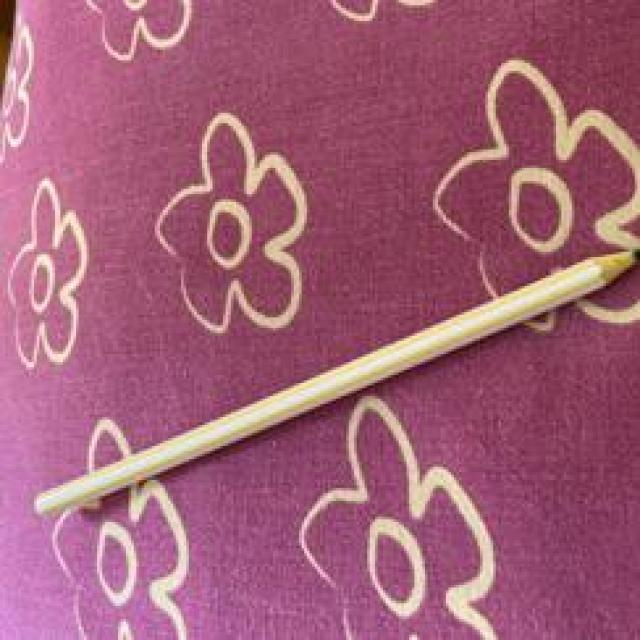pencil: (11, 224, 637, 554)
